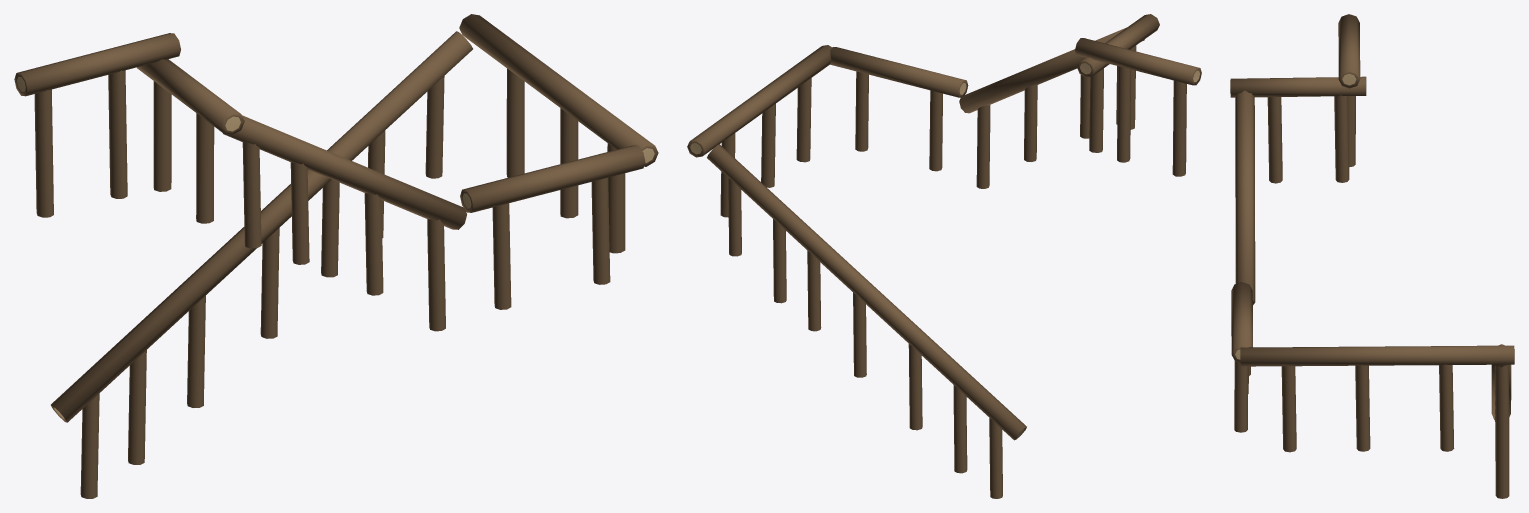
Rendered from rpgpp_ag_stairs_interior_01d_3m_handrail_01.fbx.
The picture shows the model from 3 angles, left to right: view 1: azimuth 30°, elevation 25°; view 2: azimuth 150°, elevation 25°; view 3: azimuth 270°, elevation 25°; orthographic projection. The views are drawn at different scales.
Visible parts, largest first — view 1: rpgpp_ag_stairs_interior_01d_3m_handrail_01; view 2: rpgpp_ag_stairs_interior_01d_3m_handrail_01; view 3: rpgpp_ag_stairs_interior_01d_3m_handrail_01.
Part boxes in pixels (x1,y1,x2,y2): rpgpp_ag_stairs_interior_01d_3m_handrail_01: (14, 14, 658, 498); rpgpp_ag_stairs_interior_01d_3m_handrail_01: (687, 14, 1201, 498); rpgpp_ag_stairs_interior_01d_3m_handrail_01: (1230, 14, 1514, 498).
Size of the model in its own units: 4.29 by 3.87 by 2.37.
